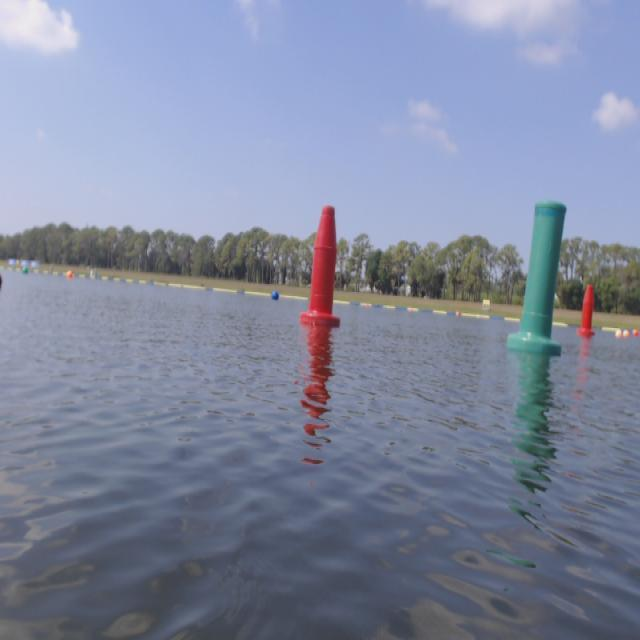Green_Buoy: (532, 194, 558, 360)
Red_Buoy: (310, 205, 336, 326), (580, 285, 600, 347)
